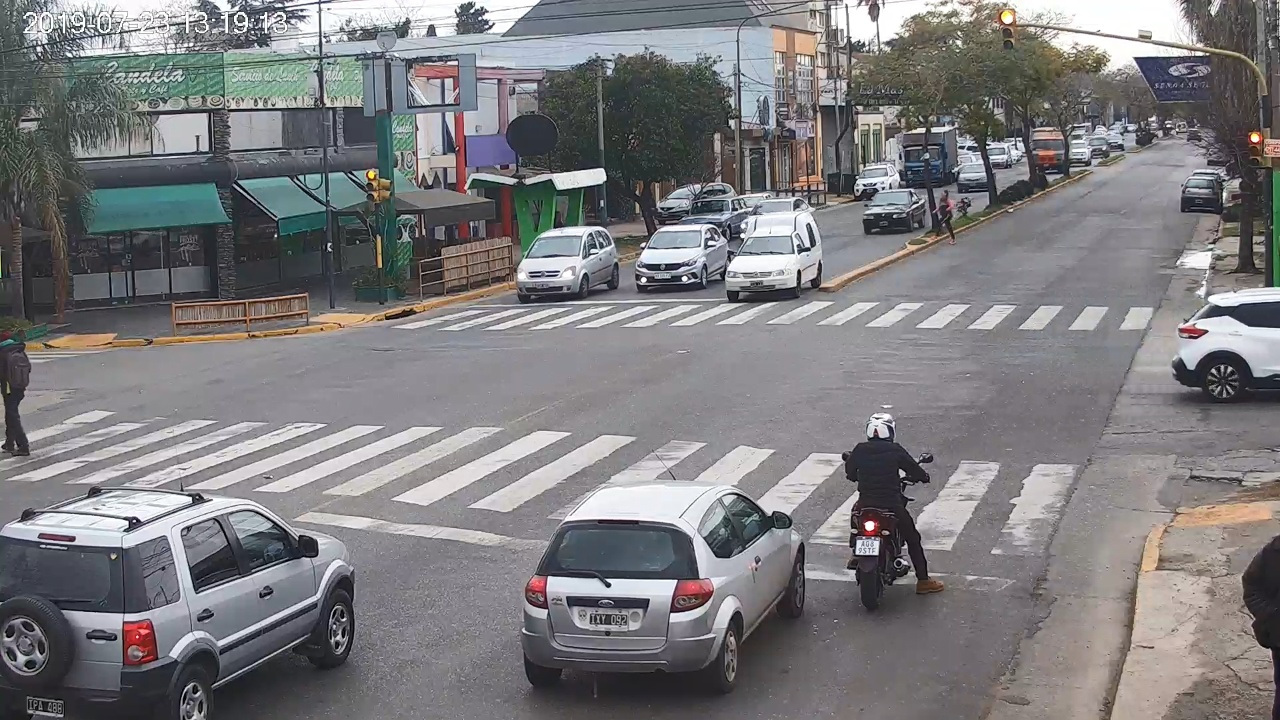car: (1, 485, 356, 720), (521, 481, 806, 690)
motorcycle: (842, 451, 943, 608)
traffic light: (1000, 9, 1016, 49), (1248, 133, 1261, 167)
